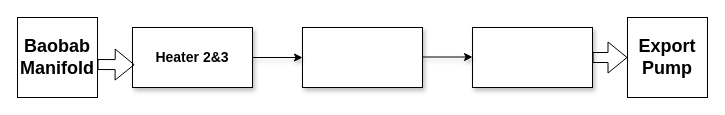
This 725x115 diagram has some shape labels left out. The shapes that lost their labels are listed below. From the top down, each one's centre as x and y in pixels, then its label:
(x=363, y=58): Gas boot 2
(x=533, y=58): Oil Storage Tank 1
